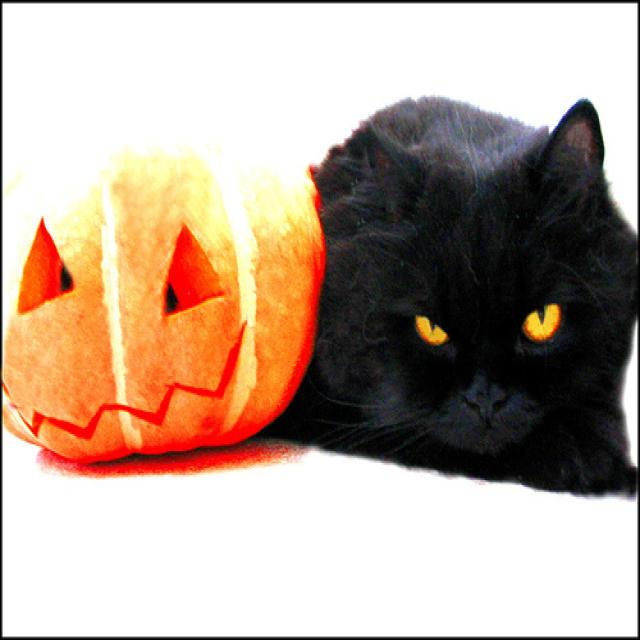left eye: (518, 298, 564, 345)
